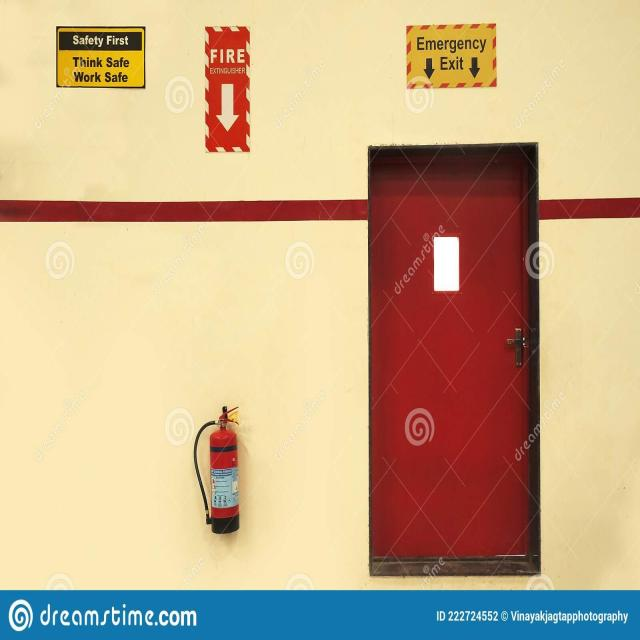fire_extinguisher: (191, 398, 246, 536)
